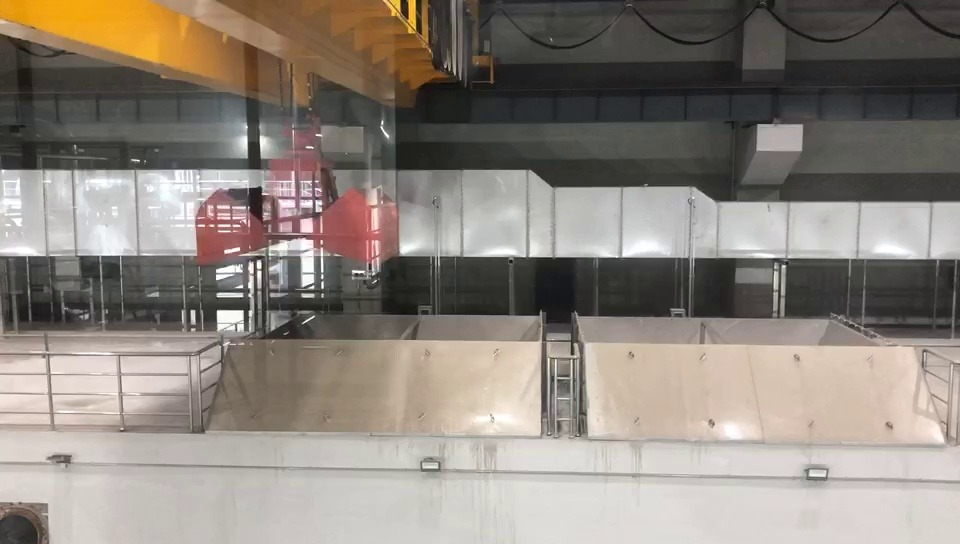grab: (191, 111, 403, 268)
